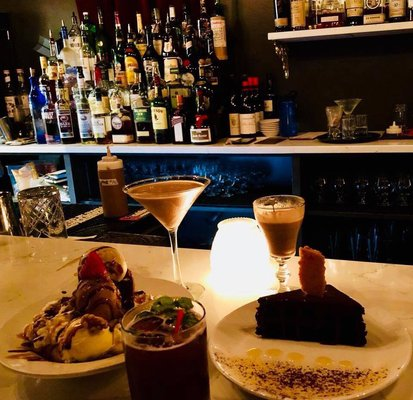pizza: (118, 295, 209, 398), (253, 194, 306, 260)
soup: (22, 245, 134, 363)
